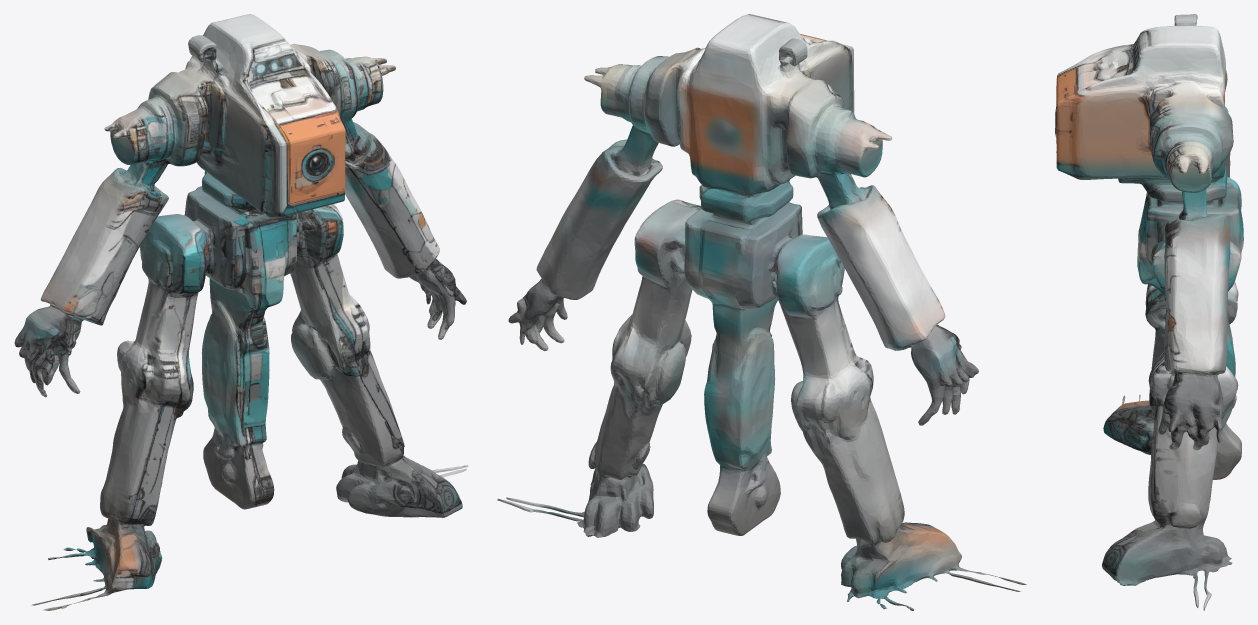
The model's file is clanker_townsperson_local.glb.
3 views of the same model, side by side, from view 1: azimuth 30°, elevation 25°; view 2: azimuth 150°, elevation 25°; view 3: azimuth 270°, elevation 25° (orthographic). The views are drawn at different scales.
Parts seen in each view (by area): view 1: geometry_0; view 2: geometry_0; view 3: geometry_0.
Part boxes in pixels (left/top/right/bottom): geometry_0: left=14, top=14, right=468, bottom=610; geometry_0: left=497, top=14, right=1026, bottom=610; geometry_0: left=1055, top=14, right=1243, bottom=610.
Bounding box in the file's own units: 1.81 × 1.85 × 0.6718.
1 material, 1 textured.
